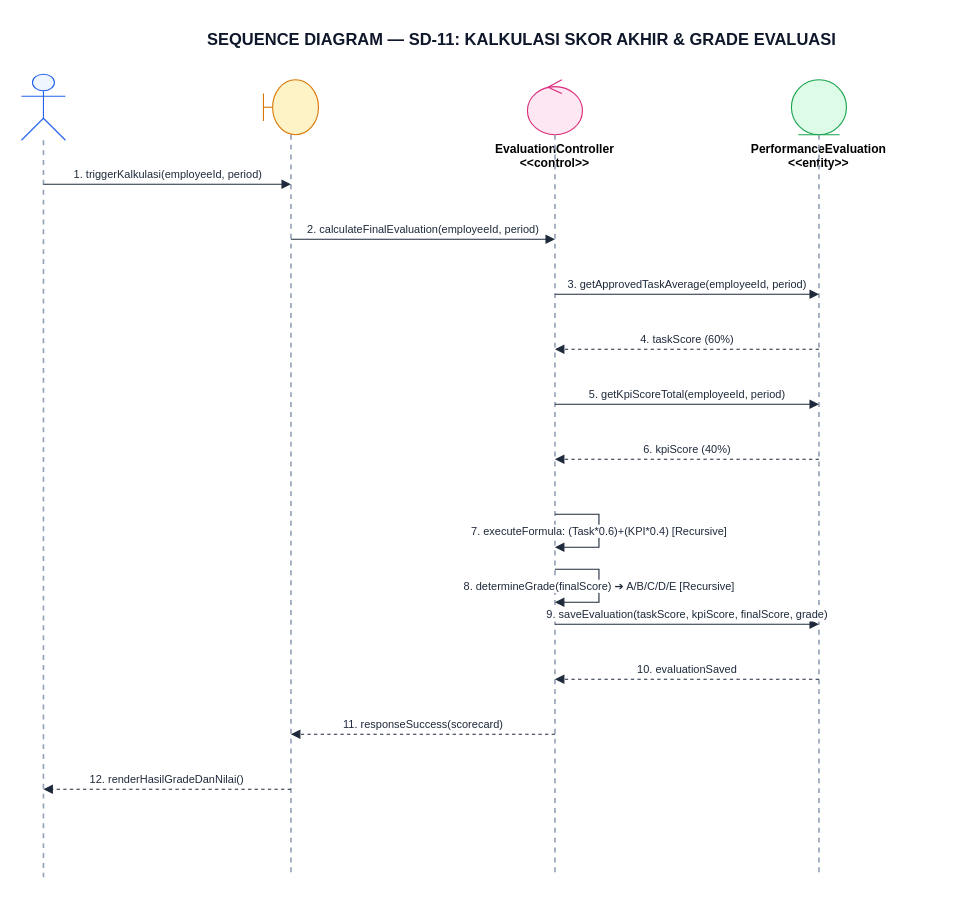
Image size: 954x898. Some labels were removed from this diagram. Each missing label, with the box of its shape:
FormKalkulasiEvaluasi <<boundary>>: (262, 79, 318, 135)
Manager: (20, 73, 65, 140)
